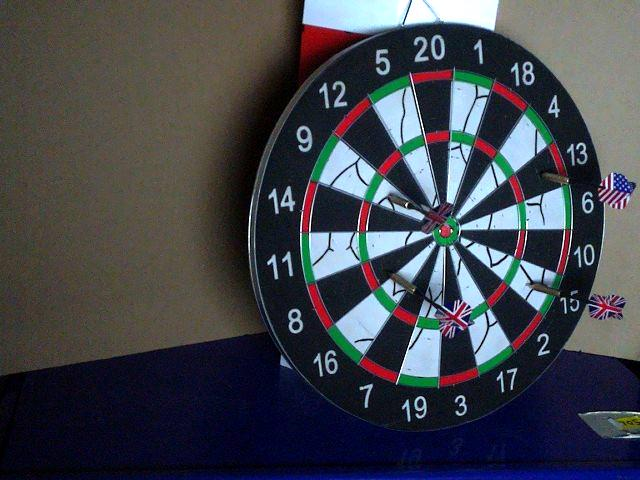single_13: (515, 154, 568, 200)
single_15: (511, 264, 556, 310)
single_8: (371, 237, 433, 285)
single_9: (374, 181, 427, 220)
